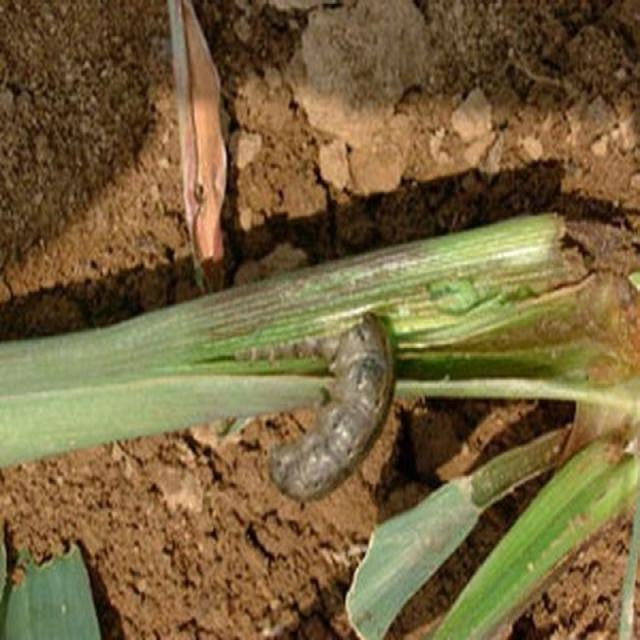black cutworm: (270, 302, 399, 516)
